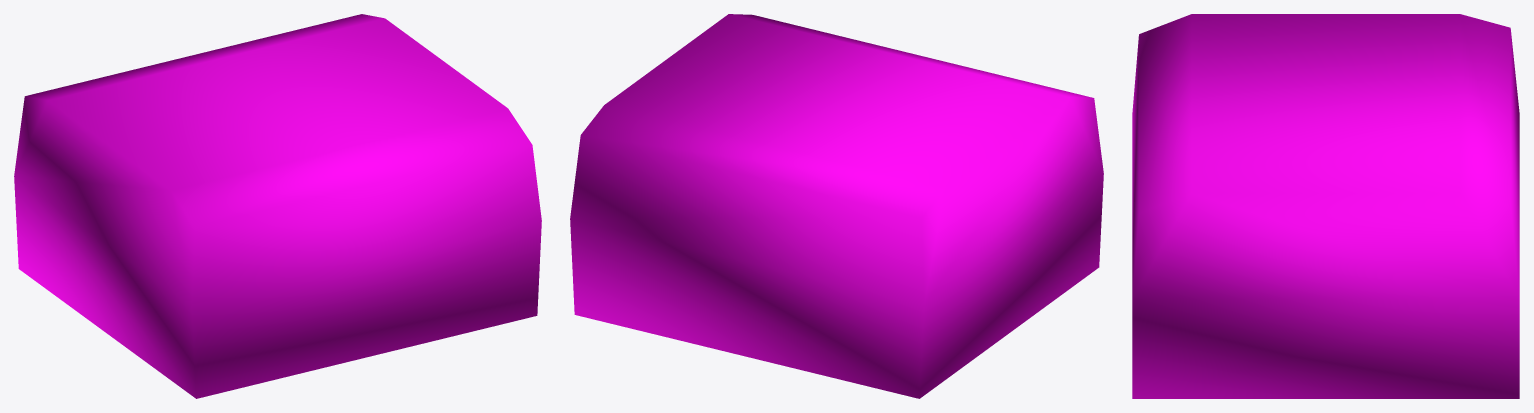
File: box_large_meshCollider.fbx
3 renders of one model, left to right at view 1: azimuth 30°, elevation 25°; view 2: azimuth 150°, elevation 25°; view 3: azimuth 270°, elevation 25°, orthographic. The views are drawn at different scales.
Visible parts, largest first — view 1: foods_package_box_cardboard_large_1_meshCollider; view 2: foods_package_box_cardboard_large_1_meshCollider; view 3: foods_package_box_cardboard_large_1_meshCollider.
Boxes of the visible parts, x1,y1,x2,y2 form: foods_package_box_cardboard_large_1_meshCollider: (14, 14, 541, 398); foods_package_box_cardboard_large_1_meshCollider: (570, 14, 1103, 398); foods_package_box_cardboard_large_1_meshCollider: (1132, 14, 1519, 398).
Bounding box in the file's own units: 28.12 × 14.42 × 24.71.
